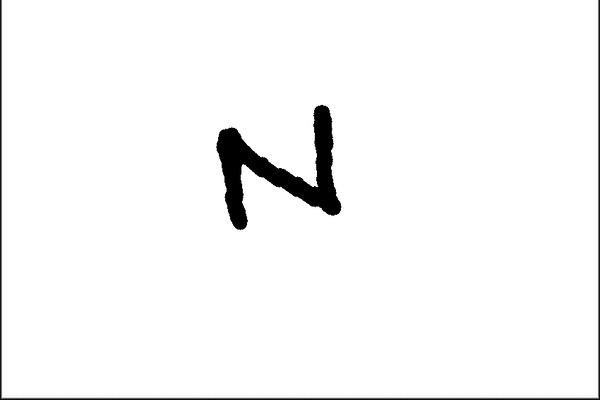N: (210, 100, 351, 236)
